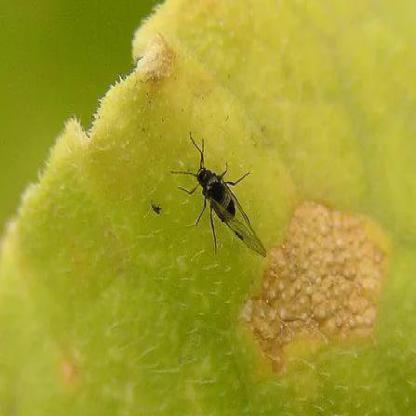aphid: (168, 129, 268, 265)
